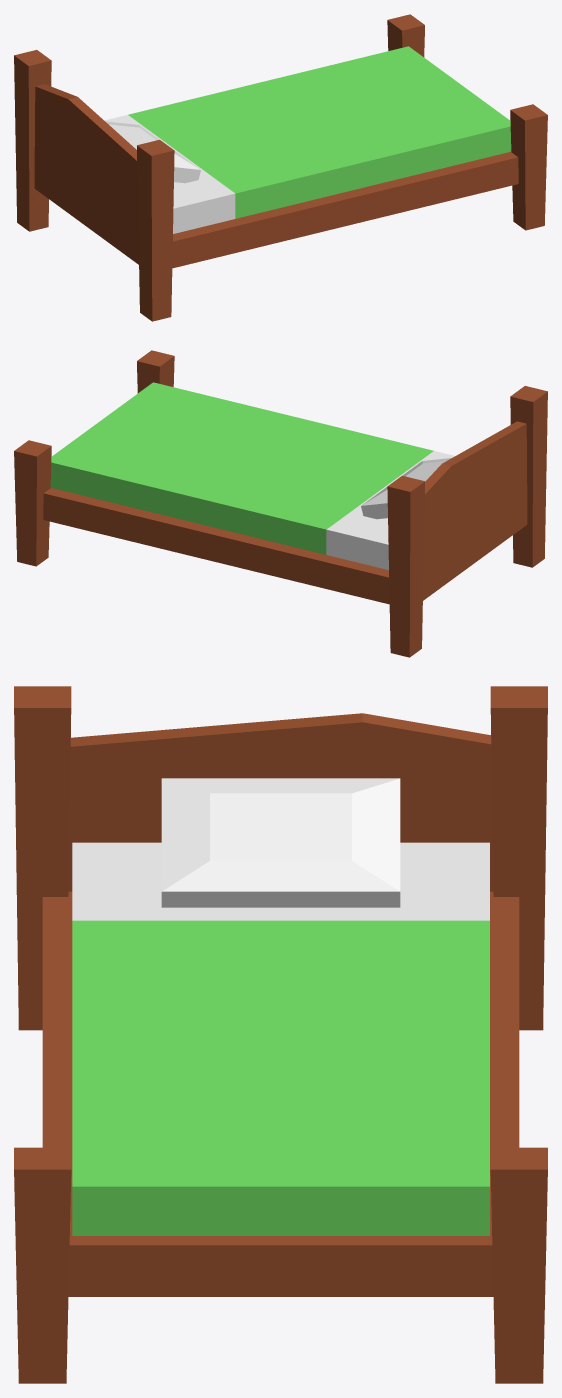
The model's file is bed.glb.
3 views of the same model, one above another, from view 1: azimuth 30°, elevation 25°; view 2: azimuth 150°, elevation 25°; view 3: azimuth 270°, elevation 25° (orthographic). The views are drawn at different scales.
Parts seen in each view (by area): view 1: bed_merged.001; view 2: bed_merged.001; view 3: bed_merged.001.
Boxes of the visible parts, bbox=[...] form: bed_merged.001: bbox=[14, 14, 547, 321]; bed_merged.001: bbox=[14, 350, 547, 657]; bed_merged.001: bbox=[14, 686, 547, 1383].
Size of the model in its own units: 2.68 by 1.08 by 1.61.
